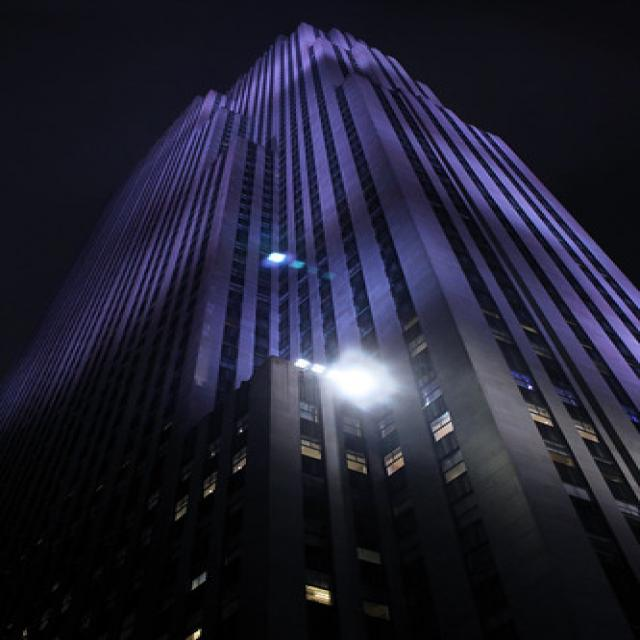Normal_building: (2, 19, 640, 640)
